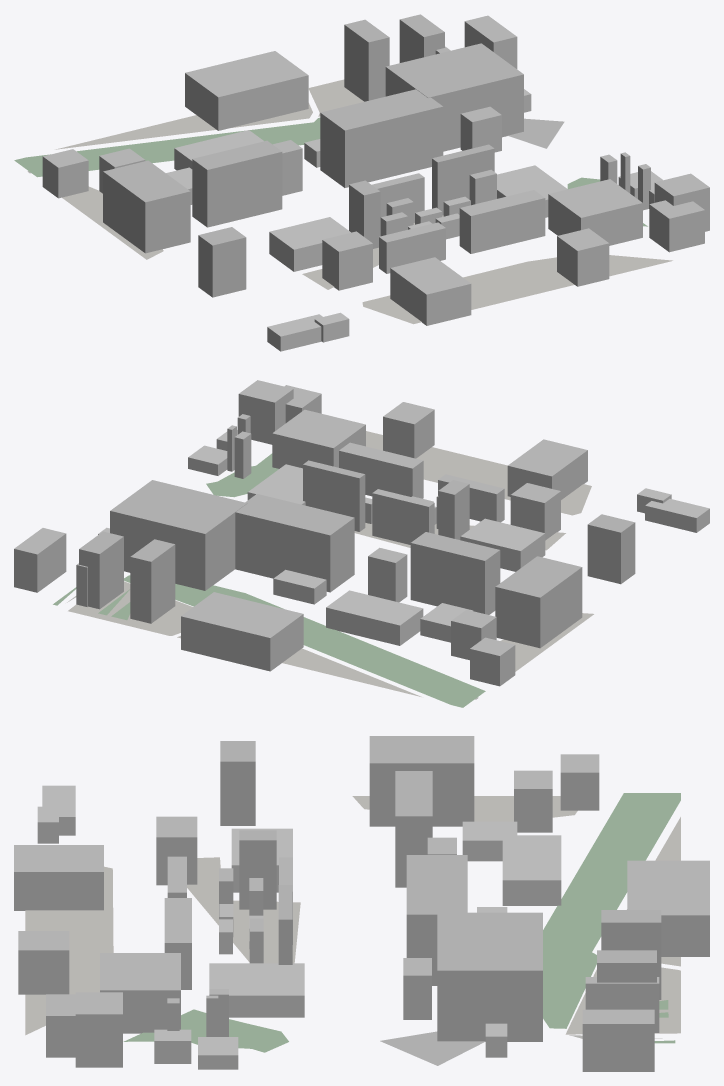
The model's file is 129_92_mid.glb.
3 renders of one model, top to bottom at view 1: azimuth 30°, elevation 25°; view 2: azimuth 150°, elevation 25°; view 3: azimuth 270°, elevation 25°, orthographic. The views are drawn at different scales.
Size of the model in its own units: 510 by 70.32 by 531.
